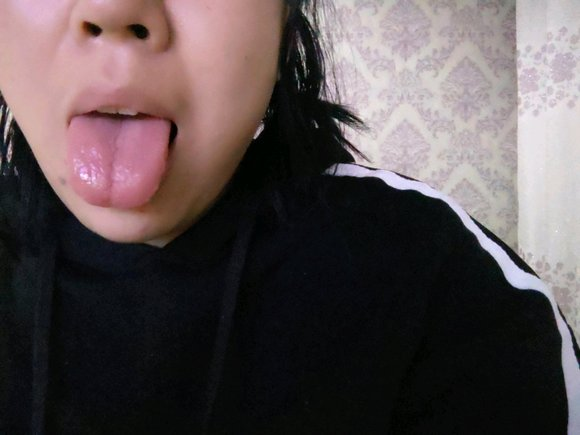pangdashe: (67, 114, 171, 208)
